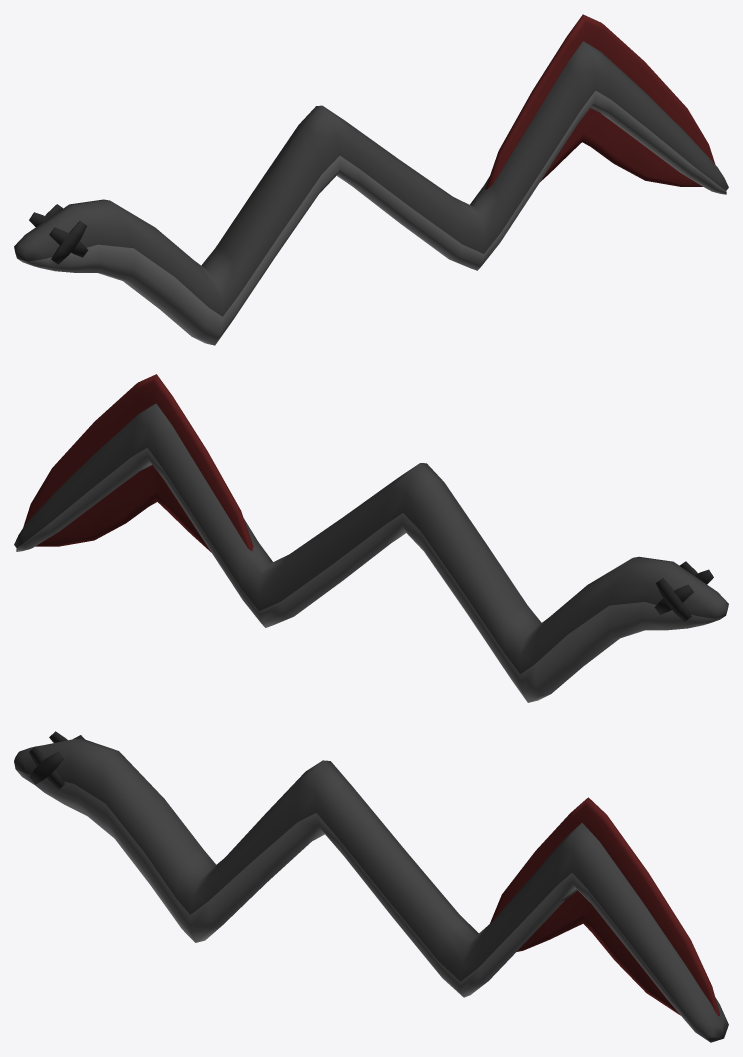
File: eel.glb
3 views of the same model, one above another, from view 1: azimuth 30°, elevation 25°; view 2: azimuth 150°, elevation 25°; view 3: azimuth 330°, elevation 25° (orthographic).
Visible parts, largest first — view 1: FoodIngredient_Eel; view 2: FoodIngredient_Eel; view 3: FoodIngredient_Eel.
Boxes of the visible parts, bbox=[...] form: FoodIngredient_Eel: bbox=[14, 14, 728, 345]; FoodIngredient_Eel: bbox=[14, 374, 728, 702]; FoodIngredient_Eel: bbox=[14, 731, 728, 1042].
Bounding box in the file's own units: 2.41 × 0.7614 × 0.1905.
1 material, 1 textured.
